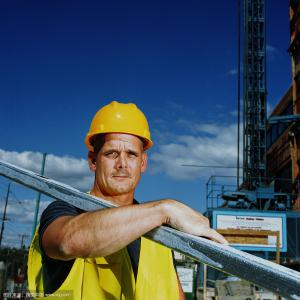yellow: (86, 102, 154, 196)
